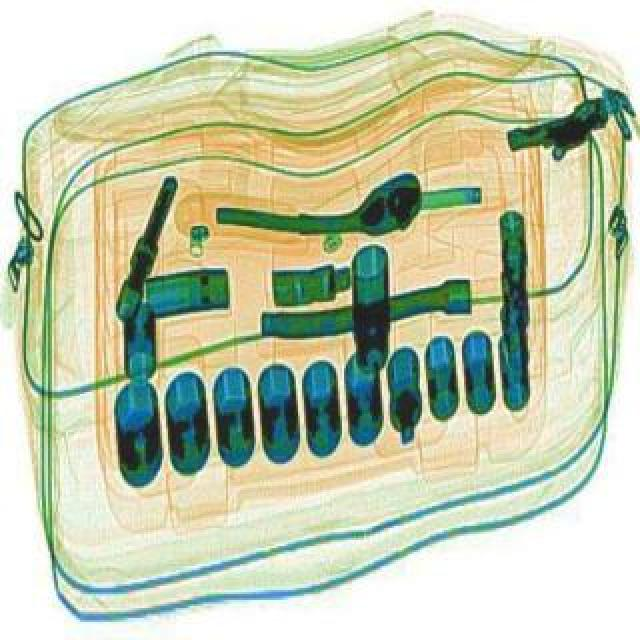gun: (500, 98, 624, 180)
